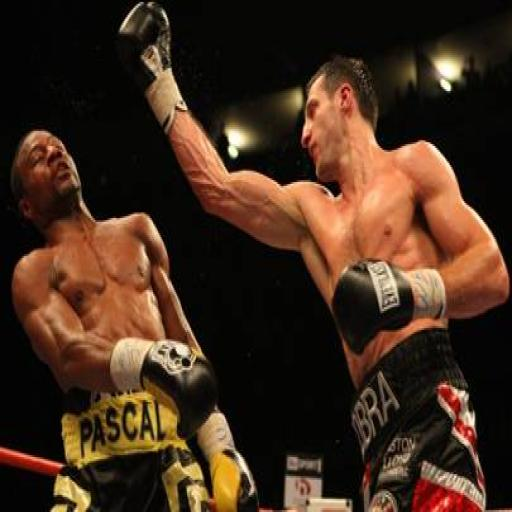boxing: (115, 0, 510, 510)
